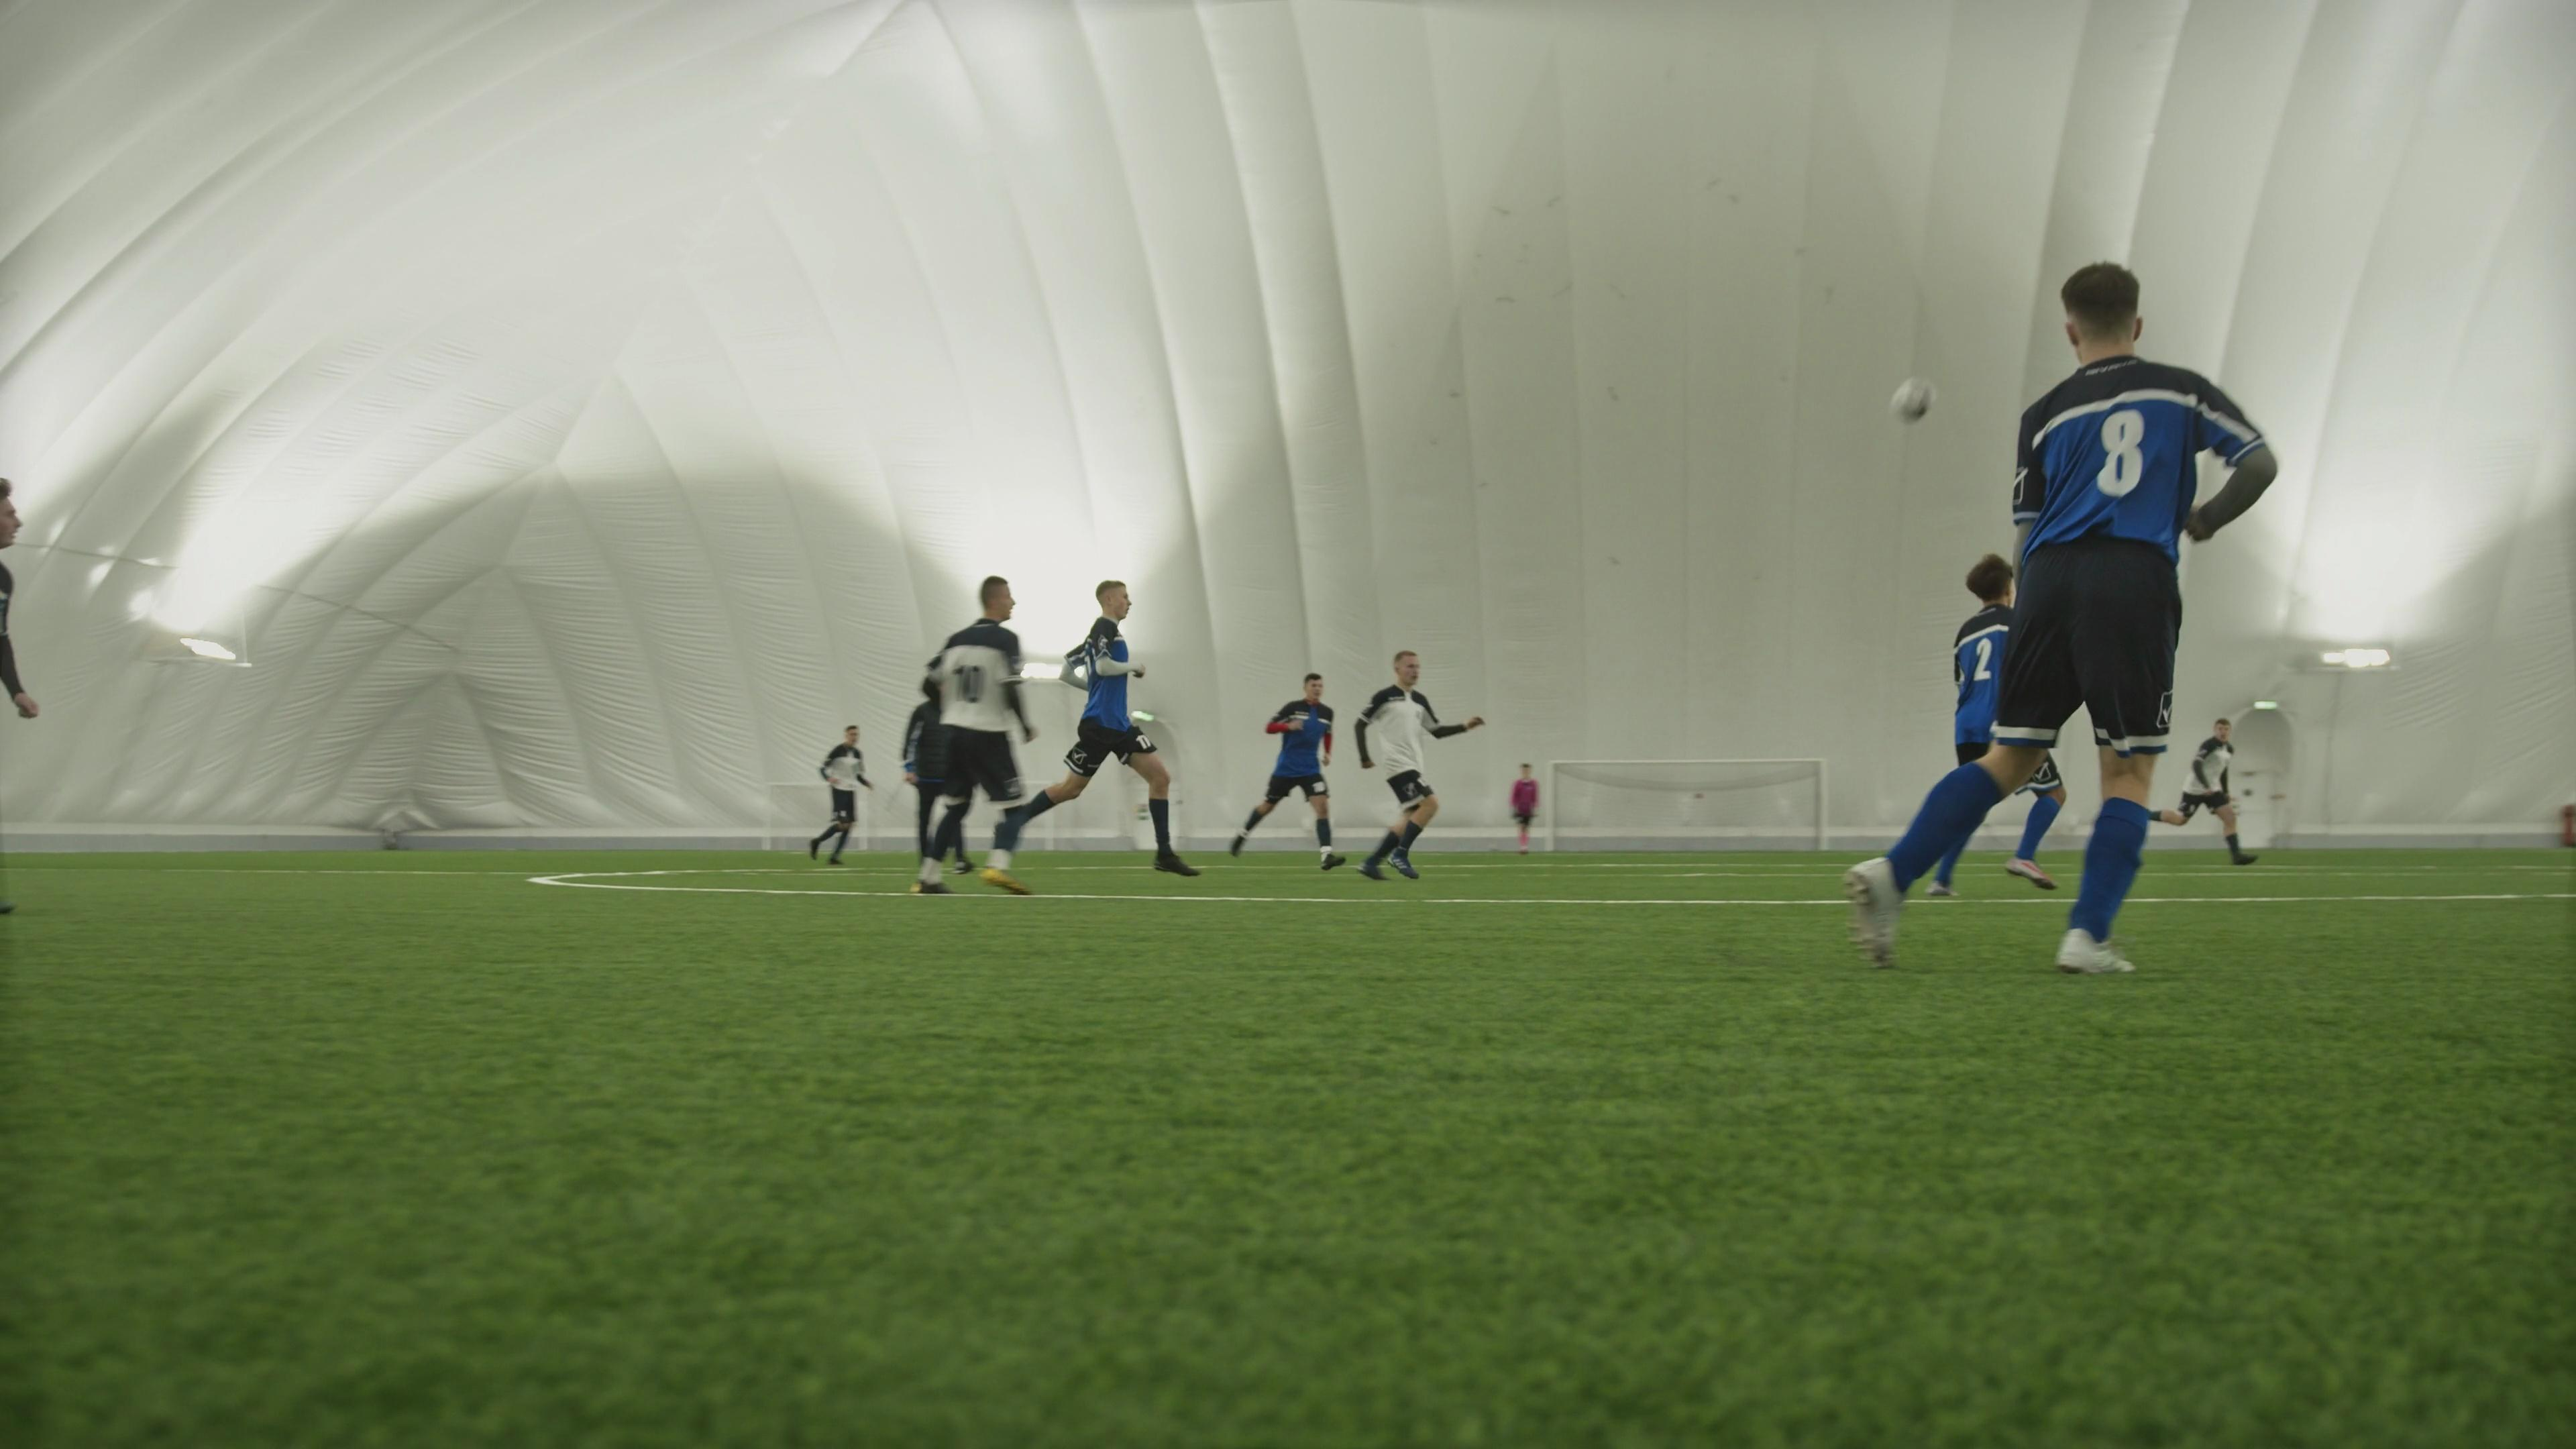other: (897, 676, 955, 883), (1511, 764, 1541, 851)
team1: (1845, 260, 2282, 980), (1982, 265, 2281, 985), (1851, 554, 2065, 959), (989, 577, 1189, 876), (1230, 672, 1338, 862), (1950, 556, 2013, 759)
team1gk: (1353, 640, 1470, 881)
team2: (908, 566, 1037, 897), (2167, 715, 2256, 863), (807, 725, 872, 869)
